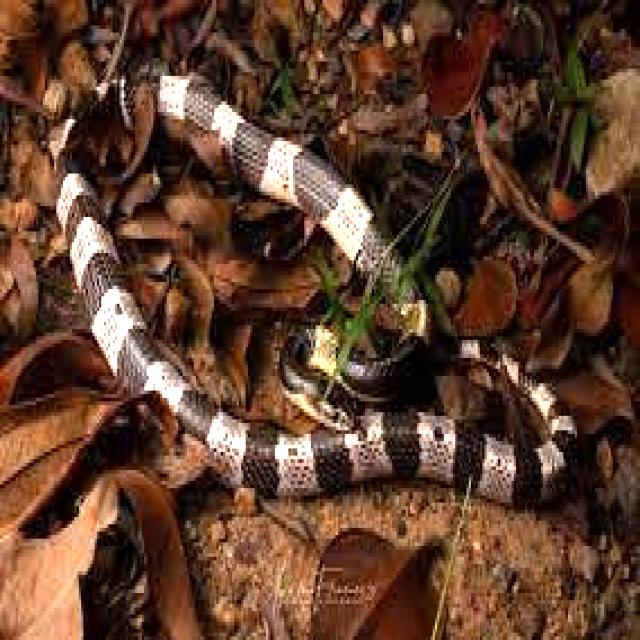Bungarus candidus: (57, 170, 576, 506)
snake: (57, 170, 576, 506)
